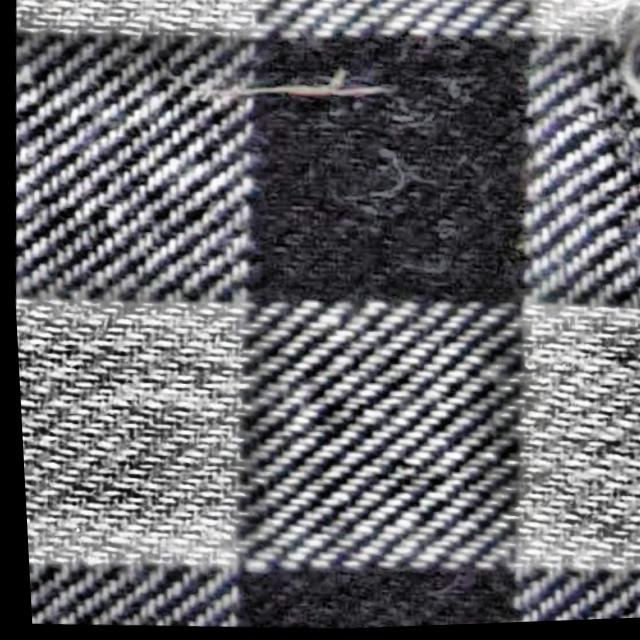Stitch: (553, 0, 640, 253), (173, 49, 409, 131), (572, 0, 640, 224)
